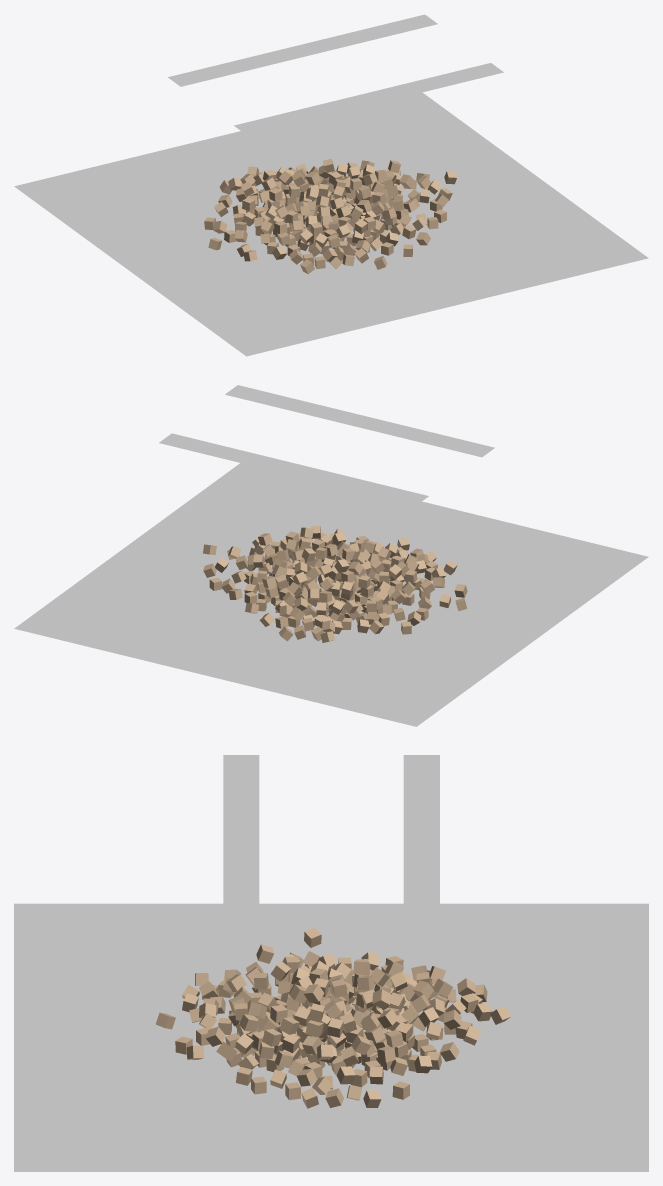
File: cycles-bake-cubes.dae
3 views of the same model, one above another, from view 1: azimuth 30°, elevation 25°; view 2: azimuth 150°, elevation 25°; view 3: azimuth 270°, elevation 25° (orthographic). The views are drawn at different scales.
Visible parts, largest first — view 1: Floor, Cubes, Light; view 2: Floor, Cubes, Light; view 3: Floor, Cubes, Light.
Boxes of the visible parts, left/top/right/bottom form: Floor: left=14, top=92, right=648, bottom=356; Cubes: left=204, top=158, right=456, bottom=274; Light: left=168, top=14, right=503, bottom=134; Floor: left=14, top=463, right=648, bottom=726; Cubes: left=203, top=525, right=467, bottom=642; Light: left=159, top=385, right=494, bottom=505; Floor: left=14, top=903, right=648, bottom=1171; Cubes: left=156, top=927, right=510, bottom=1108; Light: left=223, top=755, right=439, bottom=926.
Bounding box in the file's own units: 35.2 × 35.2 × 12.23.
